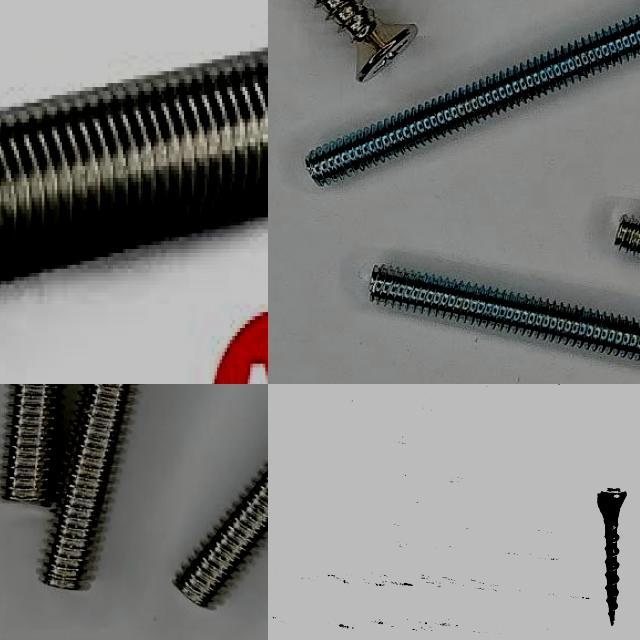Screw: (0, 47, 268, 286), (305, 16, 640, 185), (370, 266, 640, 361), (42, 384, 136, 589), (176, 468, 268, 607), (314, 0, 416, 82), (1, 384, 60, 505), (598, 486, 627, 624), (615, 217, 640, 256)
